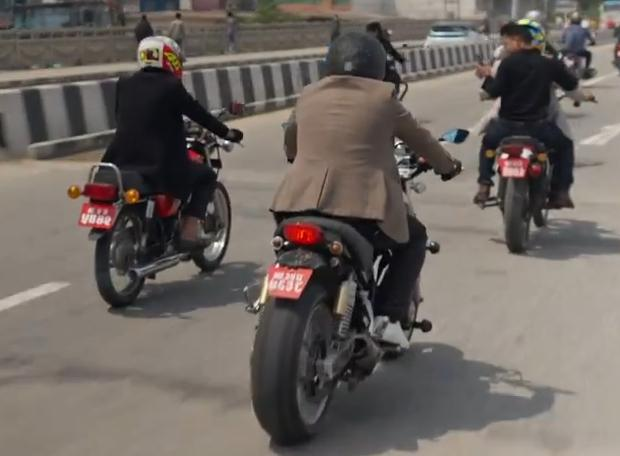bike: (243, 126, 469, 445), (62, 97, 241, 307), (470, 87, 585, 255)
